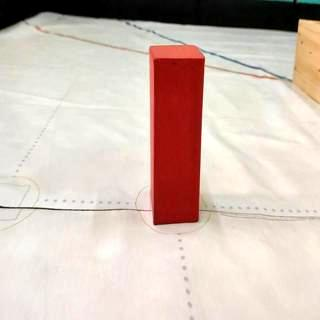redbox: (149, 44, 205, 224)
